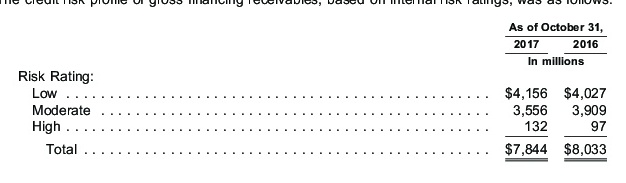table: (0, 0, 626, 183)
